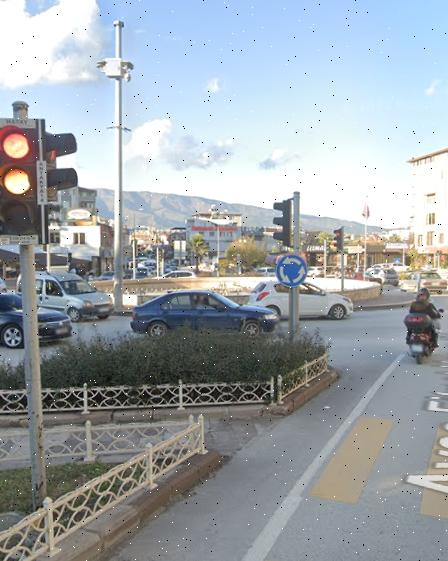crossroads: (278, 256, 308, 287)
